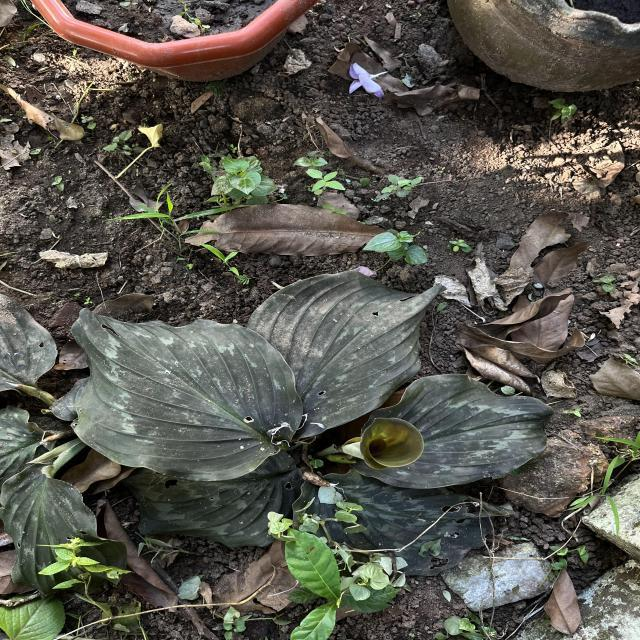Kaempferia galanga linn: (68, 303, 306, 483), (246, 269, 449, 442), (349, 372, 556, 490)
